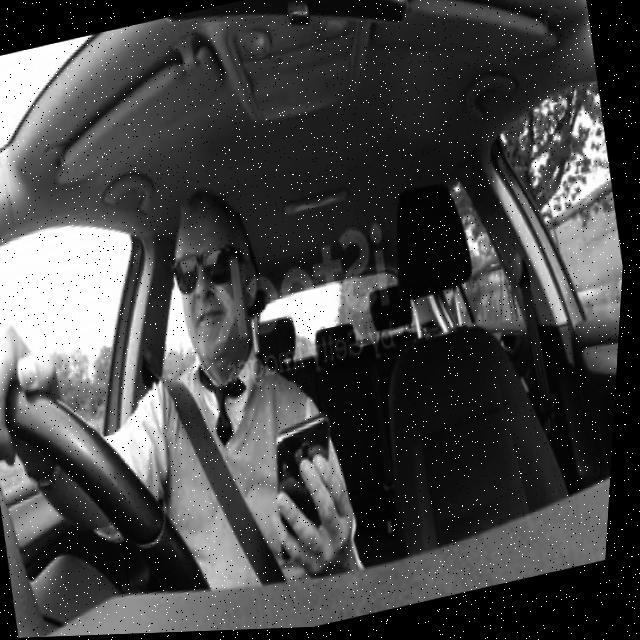PhoneCall: (263, 414, 362, 566)
